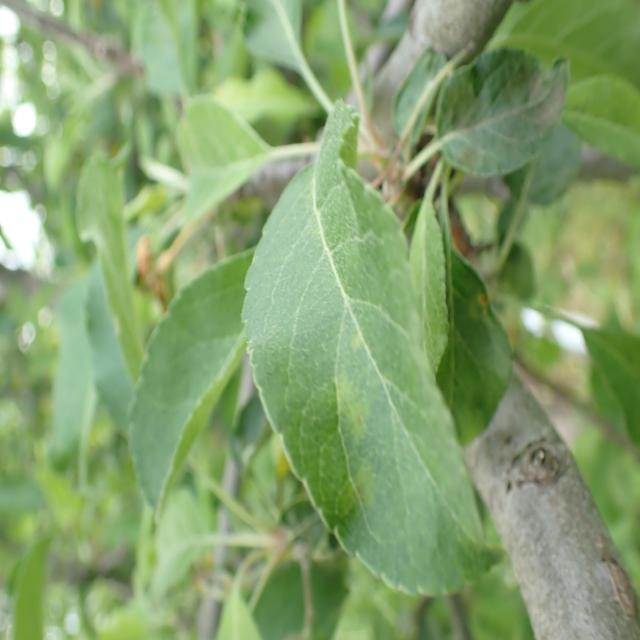scab: (290, 163, 425, 586), (430, 65, 570, 173)
